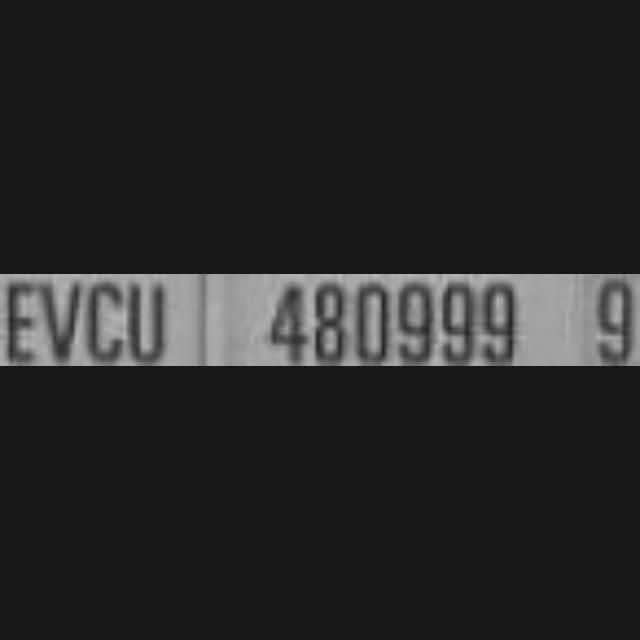0: (352, 276, 394, 366)
4: (267, 278, 313, 366)
8: (311, 276, 349, 366)
9: (592, 274, 640, 366), (394, 276, 438, 366), (478, 274, 520, 366), (438, 276, 480, 366)
c: (86, 274, 126, 366)
e: (2, 276, 40, 366)
u: (127, 276, 169, 366)
v: (38, 274, 86, 366)
